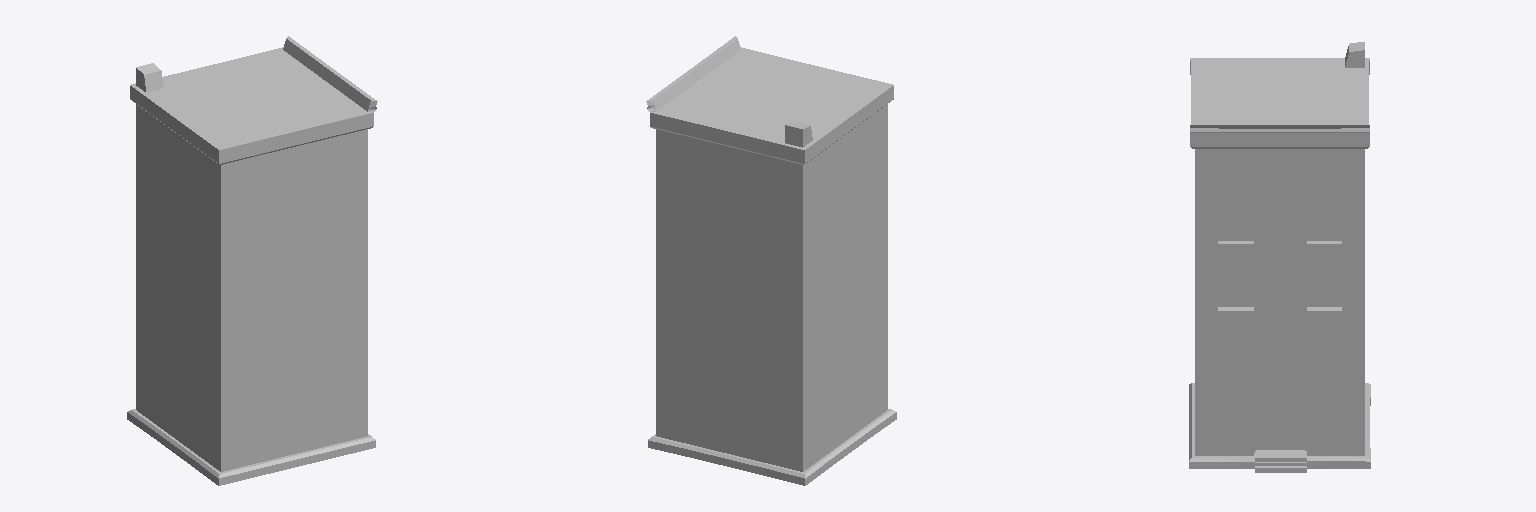
File: BuildingThree.obj
3 renders of one model, left to right at view 1: azimuth 30°, elevation 25°; view 2: azimuth 150°, elevation 25°; view 3: azimuth 270°, elevation 25°, orthographic.
Visible parts, largest first — view 1: pCube24; view 2: pCube24; view 3: pCube24.
Part boxes in pixels (x1,y1,x2,y2): pCube24: (127,36,377,485); pCube24: (646,36,896,485); pCube24: (1189,42,1370,472).
Bounding box in the file's own units: 1.13 × 2.3 × 1.08.